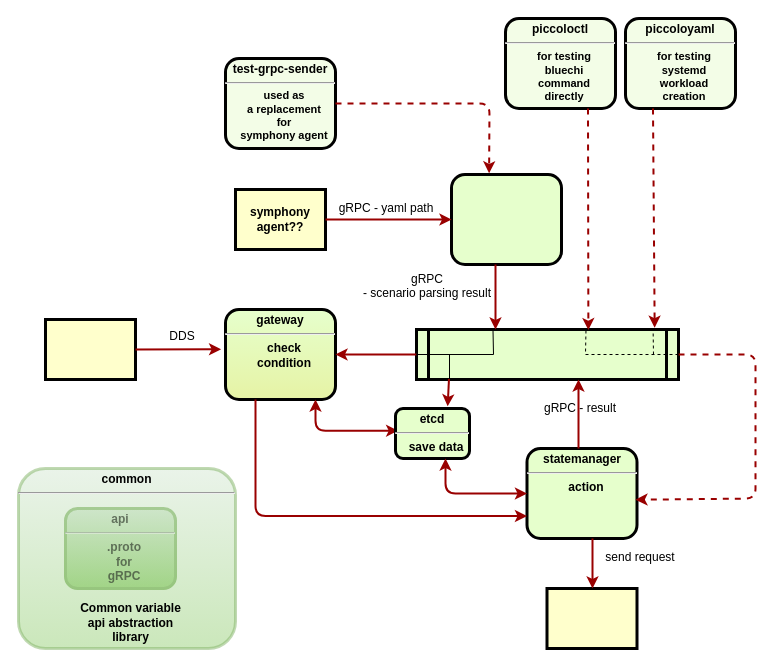
The diagram is 782 pixels wide and 667 high, and some of its shapes have lost their labels. Each missing label, with the centre of its shape:
"api-server" belongs at point 547,354.
"Bluechi-controller" belongs at point 591,618.
"Vehicle" belongs at point 90,349.
"yamlparser parsing yaml" belongs at point 506,219.
